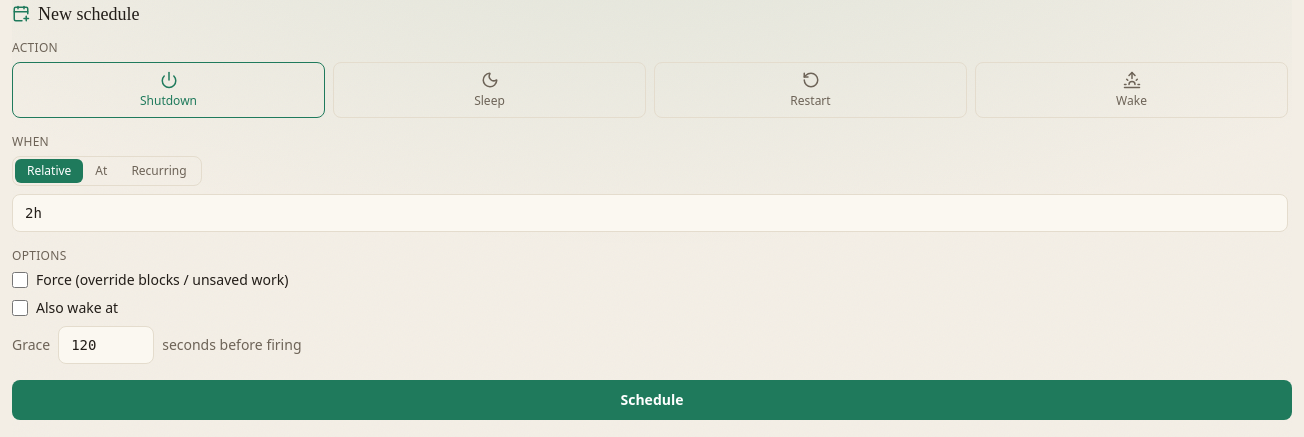
Test: ScheduleForm › offers power-on only for the wake action
Expected: the text "Power on from off" is not shown
What coordinates should you click on to do the following:
click the button "wake"
I would click on:
 (1132, 90)
Its box is [975,62,1288,118].
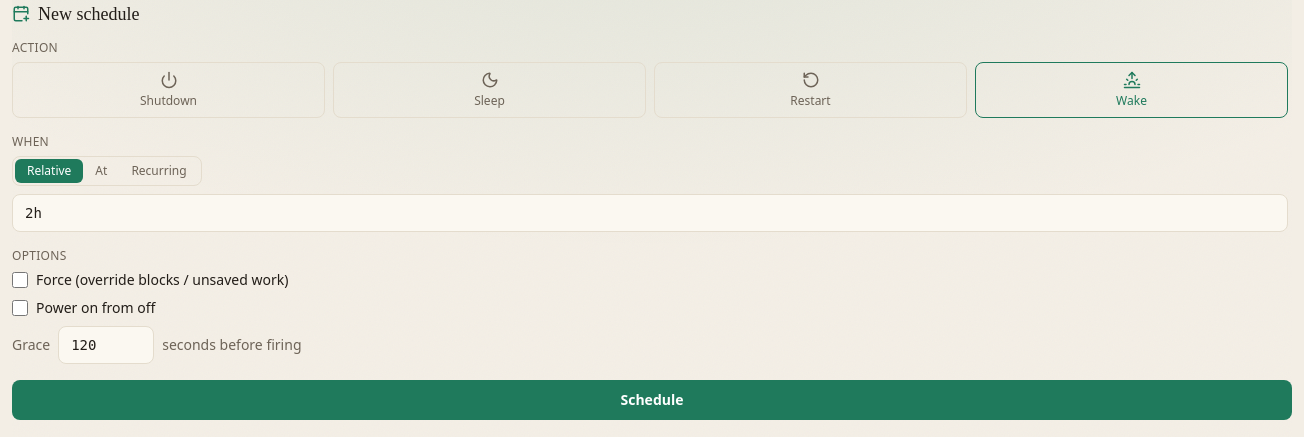
Now the text "Power on from off" is shown, box [36,298,155,318]
